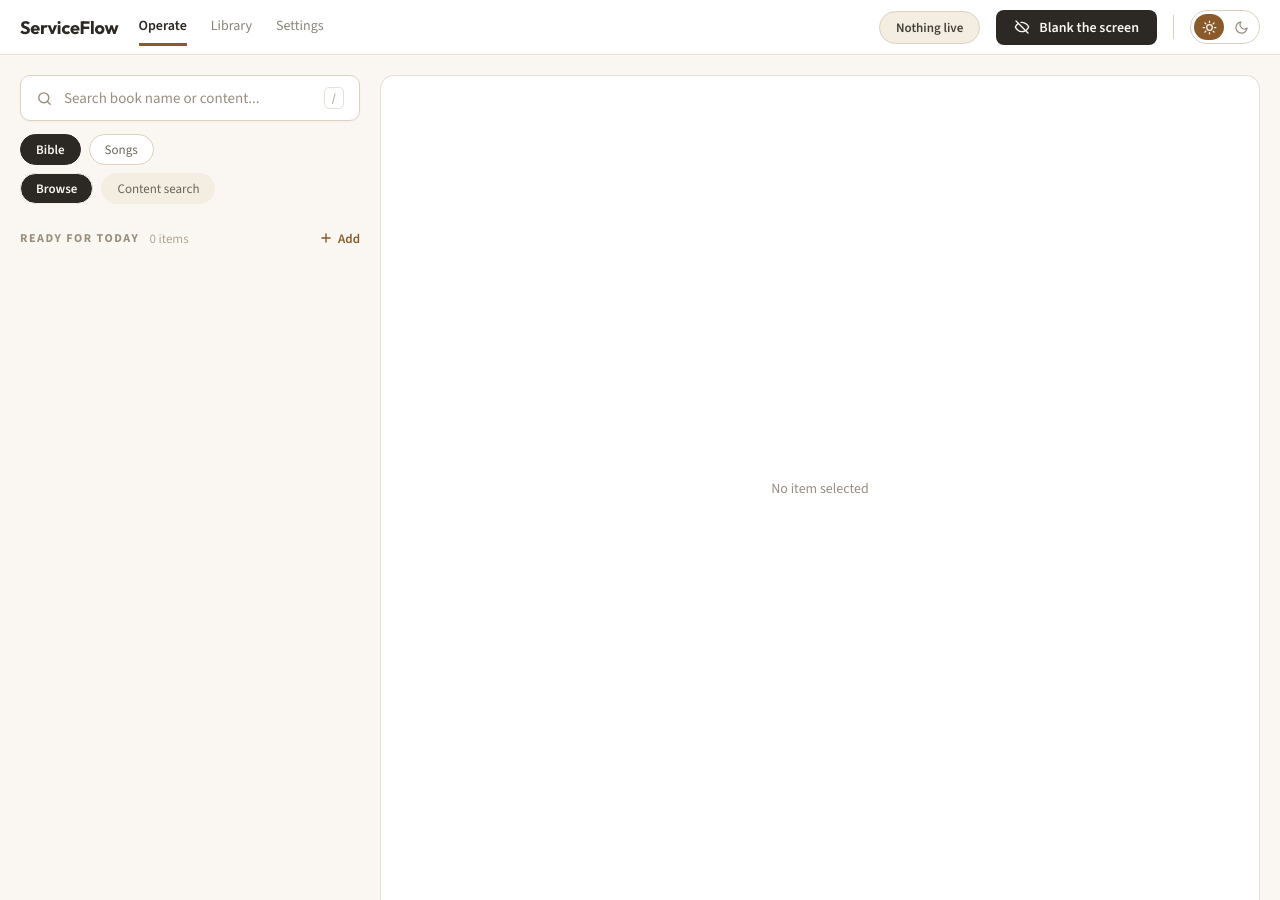
App › keeps the staged item selected after staging it from search
Type "John" into the field with placeholder "Search book name or content..." at (188, 98), box [64,88,313,108]
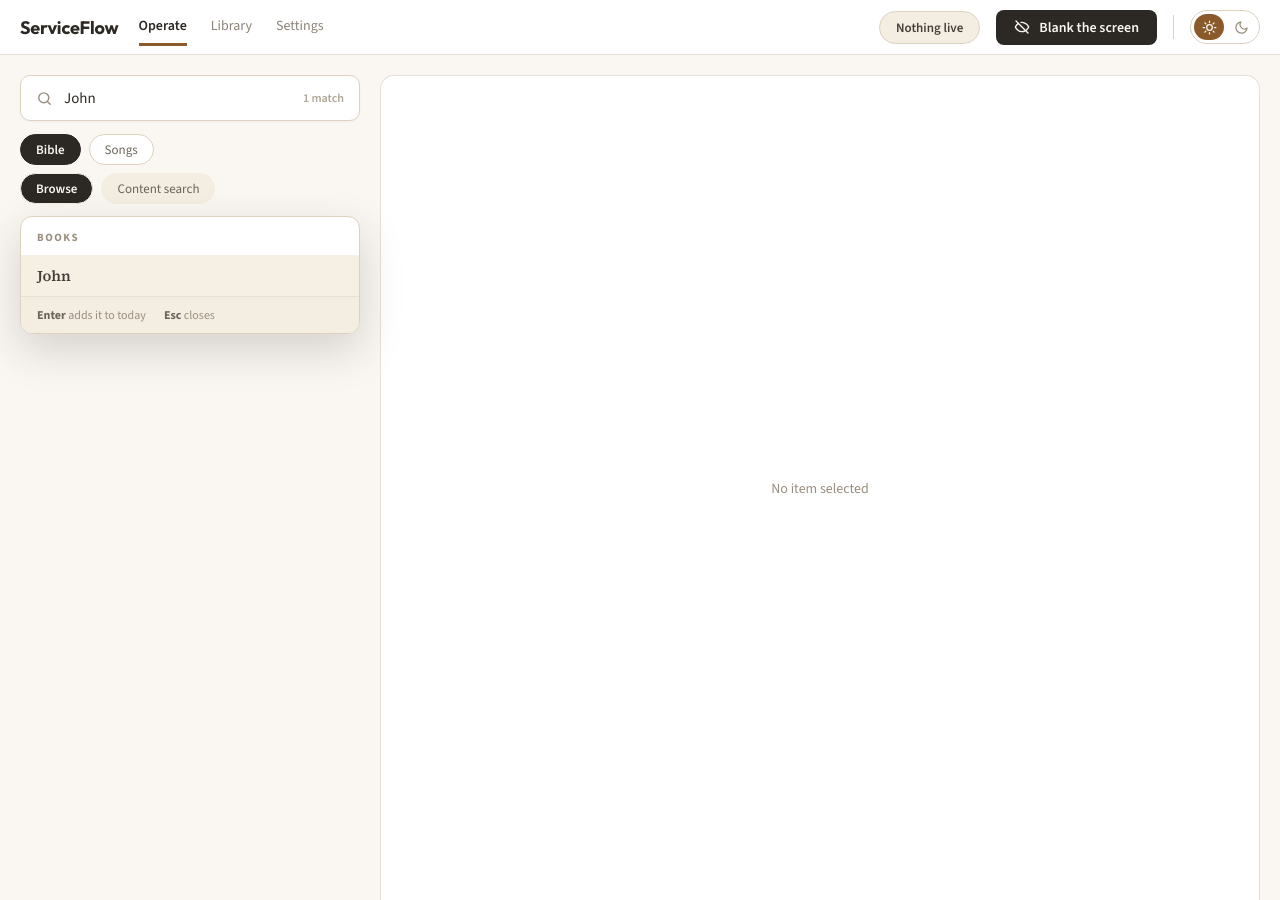
Click the button "John" at (54, 276), box [21,255,359,296]
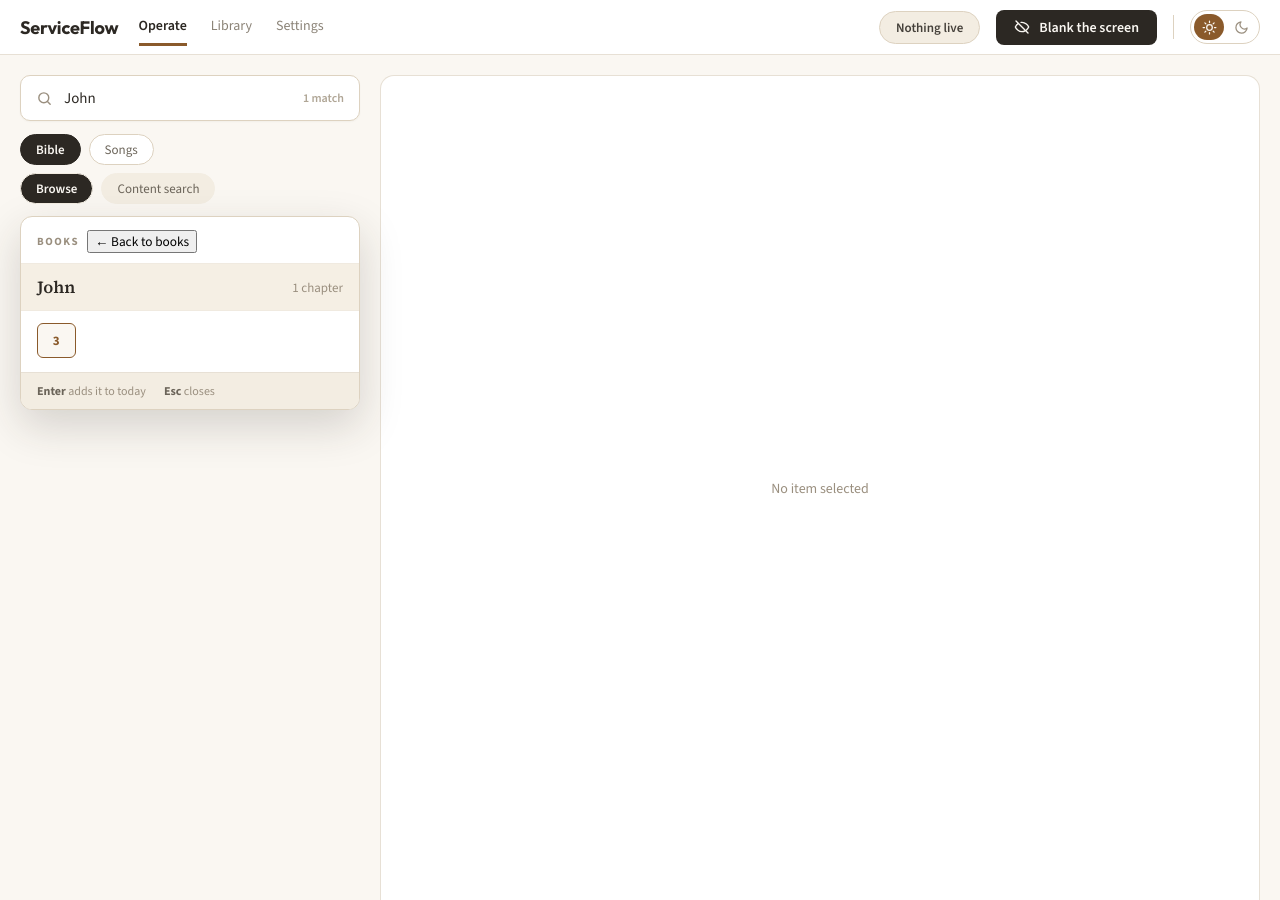
Click the button "3" at (56, 340), box [37,323,76,358]
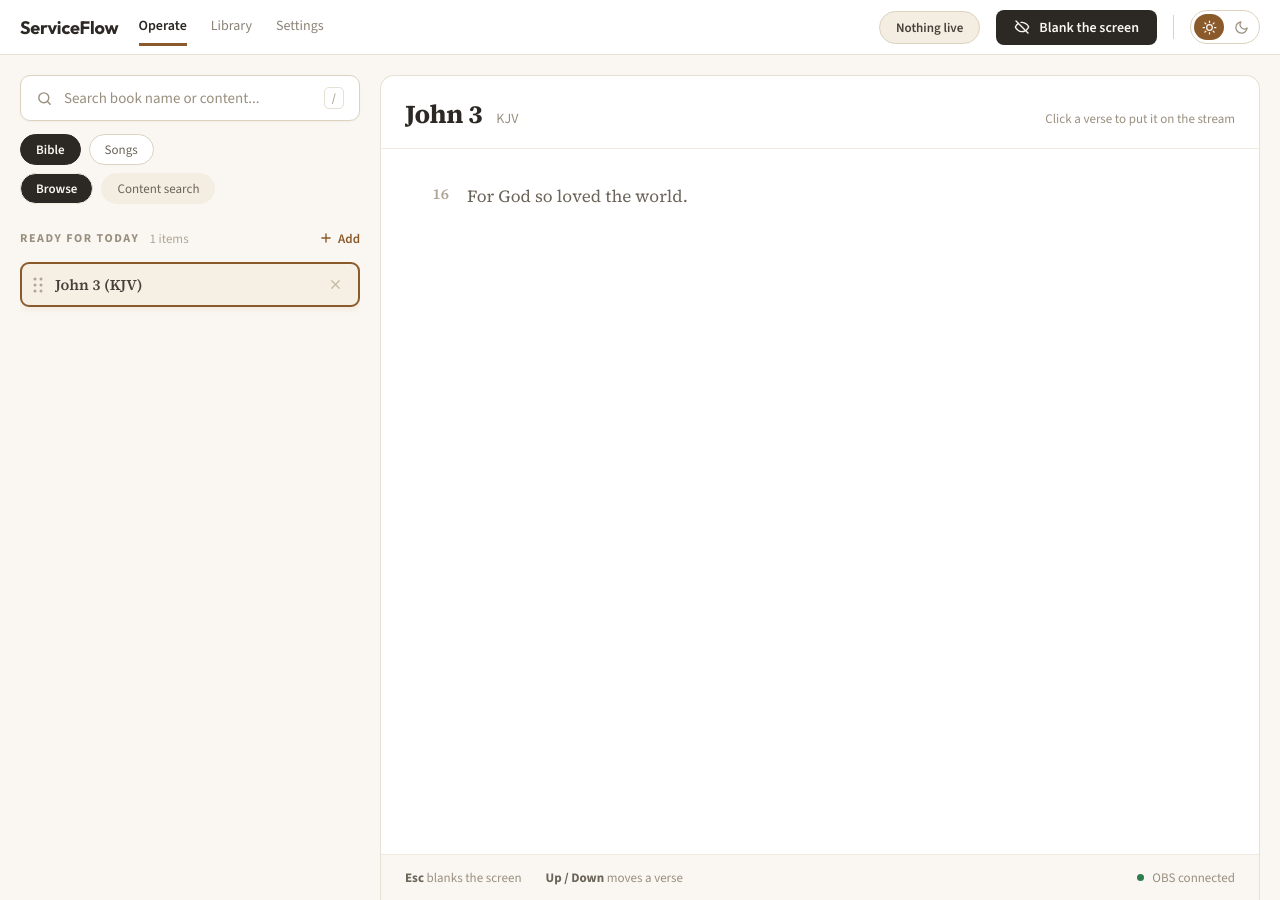
Check: the text "For God so loved the world." is shown, box [467,183,688,210]
Check: the text "No item selected" is gone
